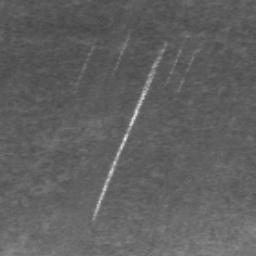Bright scratch: (92, 52, 161, 219), (78, 42, 94, 84), (181, 48, 198, 86), (170, 44, 184, 74), (118, 35, 130, 63)
